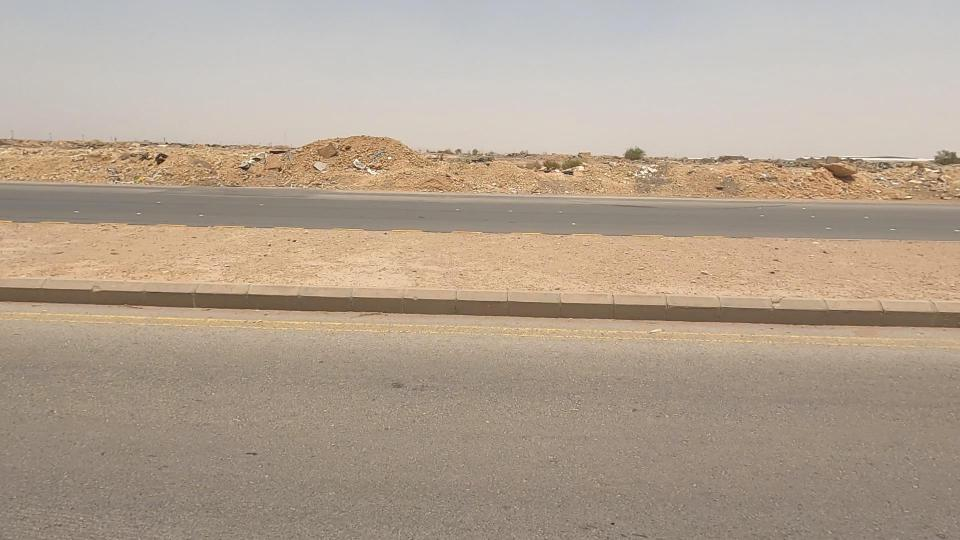CLUTTER_SIDEWALK: (498, 185, 960, 362), (0, 177, 456, 335), (292, 192, 641, 341)
GARBAGE: (204, 129, 284, 196), (869, 159, 949, 211), (328, 144, 402, 196), (611, 152, 680, 195), (298, 146, 348, 188), (132, 155, 175, 198), (134, 140, 183, 167)
